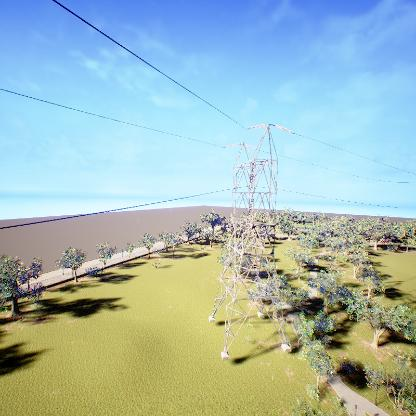tower: (208, 122, 294, 362)
